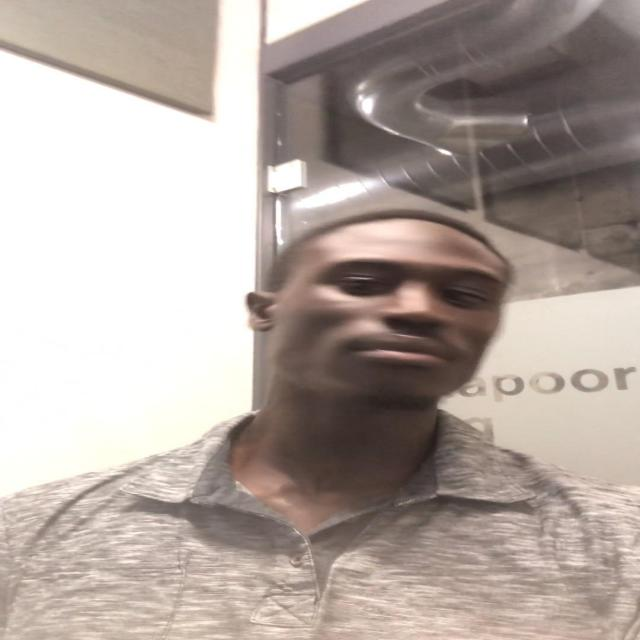face: (261, 239, 511, 413)
